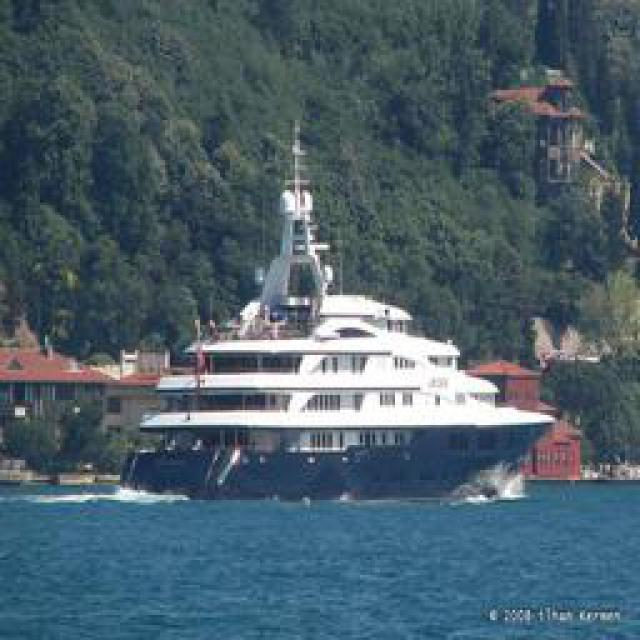Ship: (133, 205, 551, 498)
